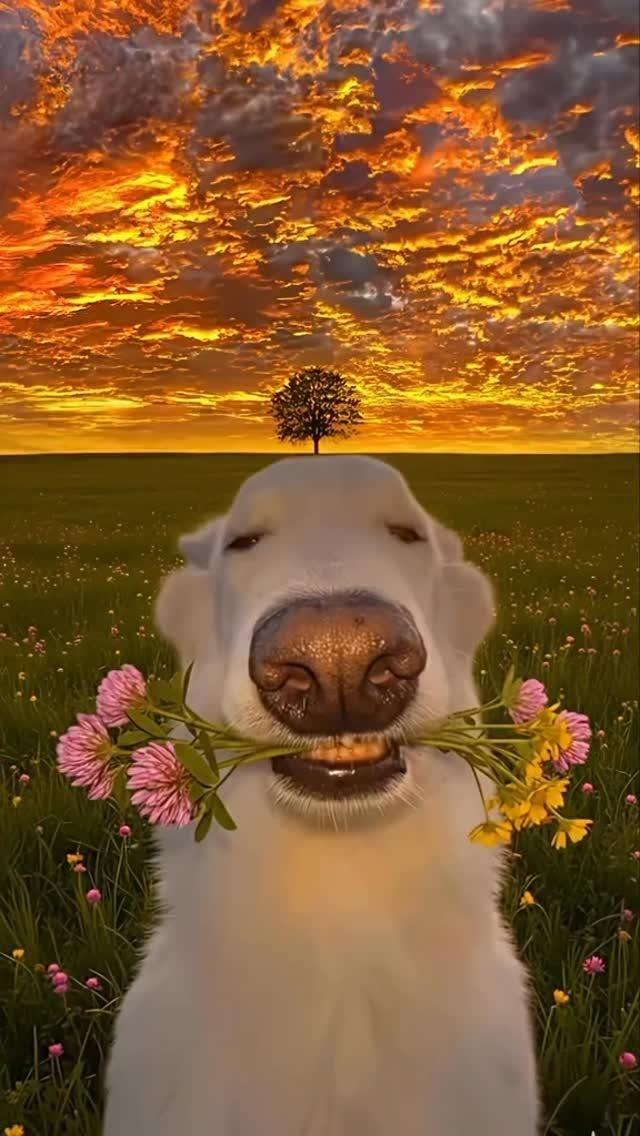adult_dog: (101, 453, 543, 1136)
